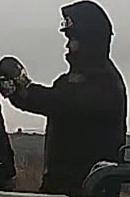gloves: (0, 55, 36, 94)
helmet: (57, 11, 76, 33)
vest: (41, 63, 128, 187)
